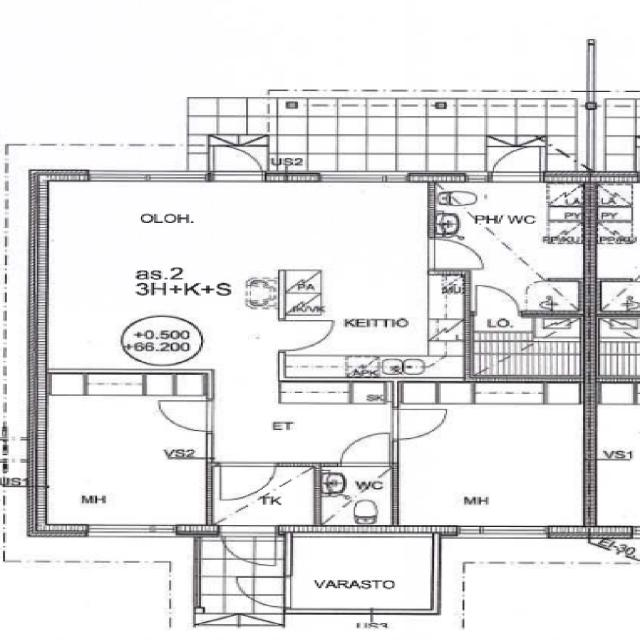door: (208, 458, 290, 510), (202, 135, 272, 182), (268, 313, 340, 355), (482, 140, 547, 184), (149, 396, 219, 436), (386, 402, 454, 442), (421, 234, 489, 273), (332, 429, 394, 469), (220, 528, 275, 569), (467, 280, 523, 314)
window: (85, 167, 213, 186), (310, 168, 413, 189), (450, 522, 554, 541), (79, 522, 181, 540), (457, 170, 492, 186)
zone: (31, 182, 306, 383), (278, 201, 465, 380), (392, 379, 596, 531), (31, 371, 213, 535), (433, 533, 639, 640), (433, 178, 590, 314), (285, 532, 436, 614), (468, 312, 587, 379), (588, 179, 640, 280), (314, 465, 395, 528), (592, 281, 640, 382), (583, 94, 640, 179)
